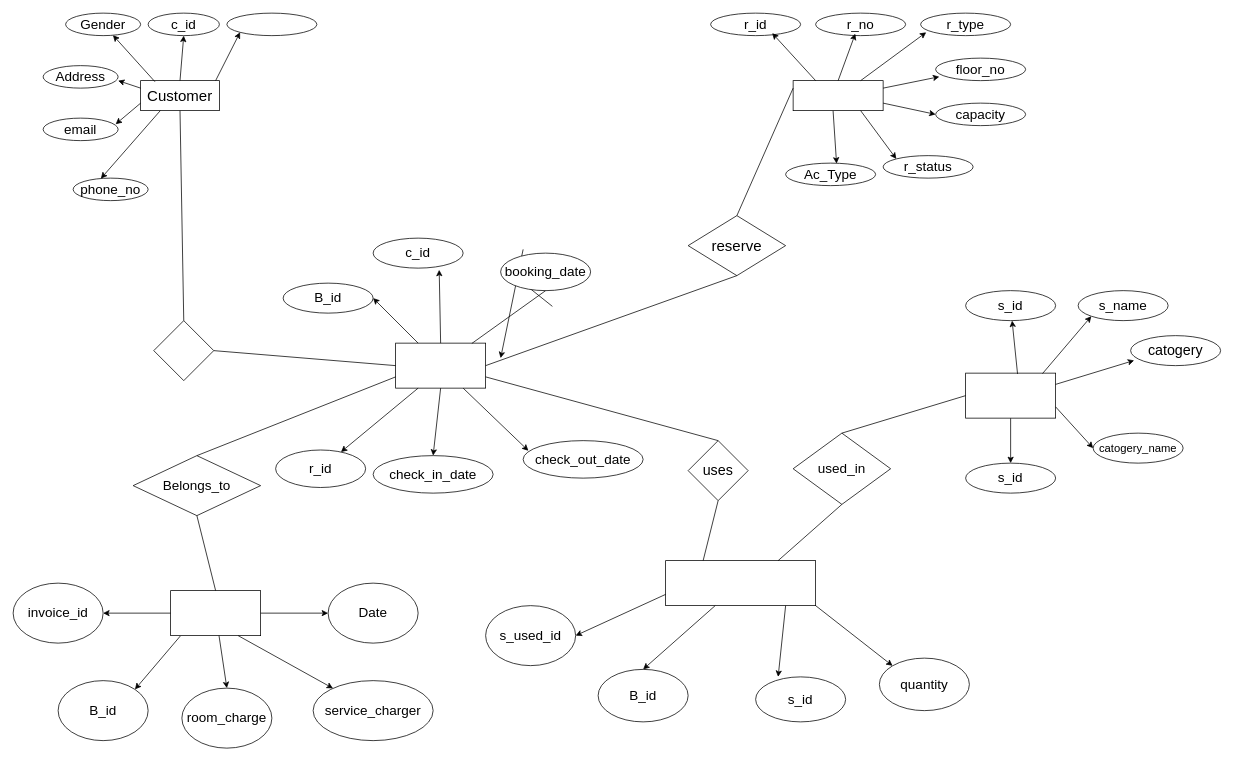
Image size: 1234x761. Some labels were removed from this diagram. Each missing label, with the centre of its shape:
Booking: (x=440, y=365)
Invoice: (x=215, y=613)
make: (x=183, y=350)
name: (x=271, y=24)
Rooms: (x=837, y=95)
Services: (x=1010, y=395)
Services_used: (x=740, y=583)
